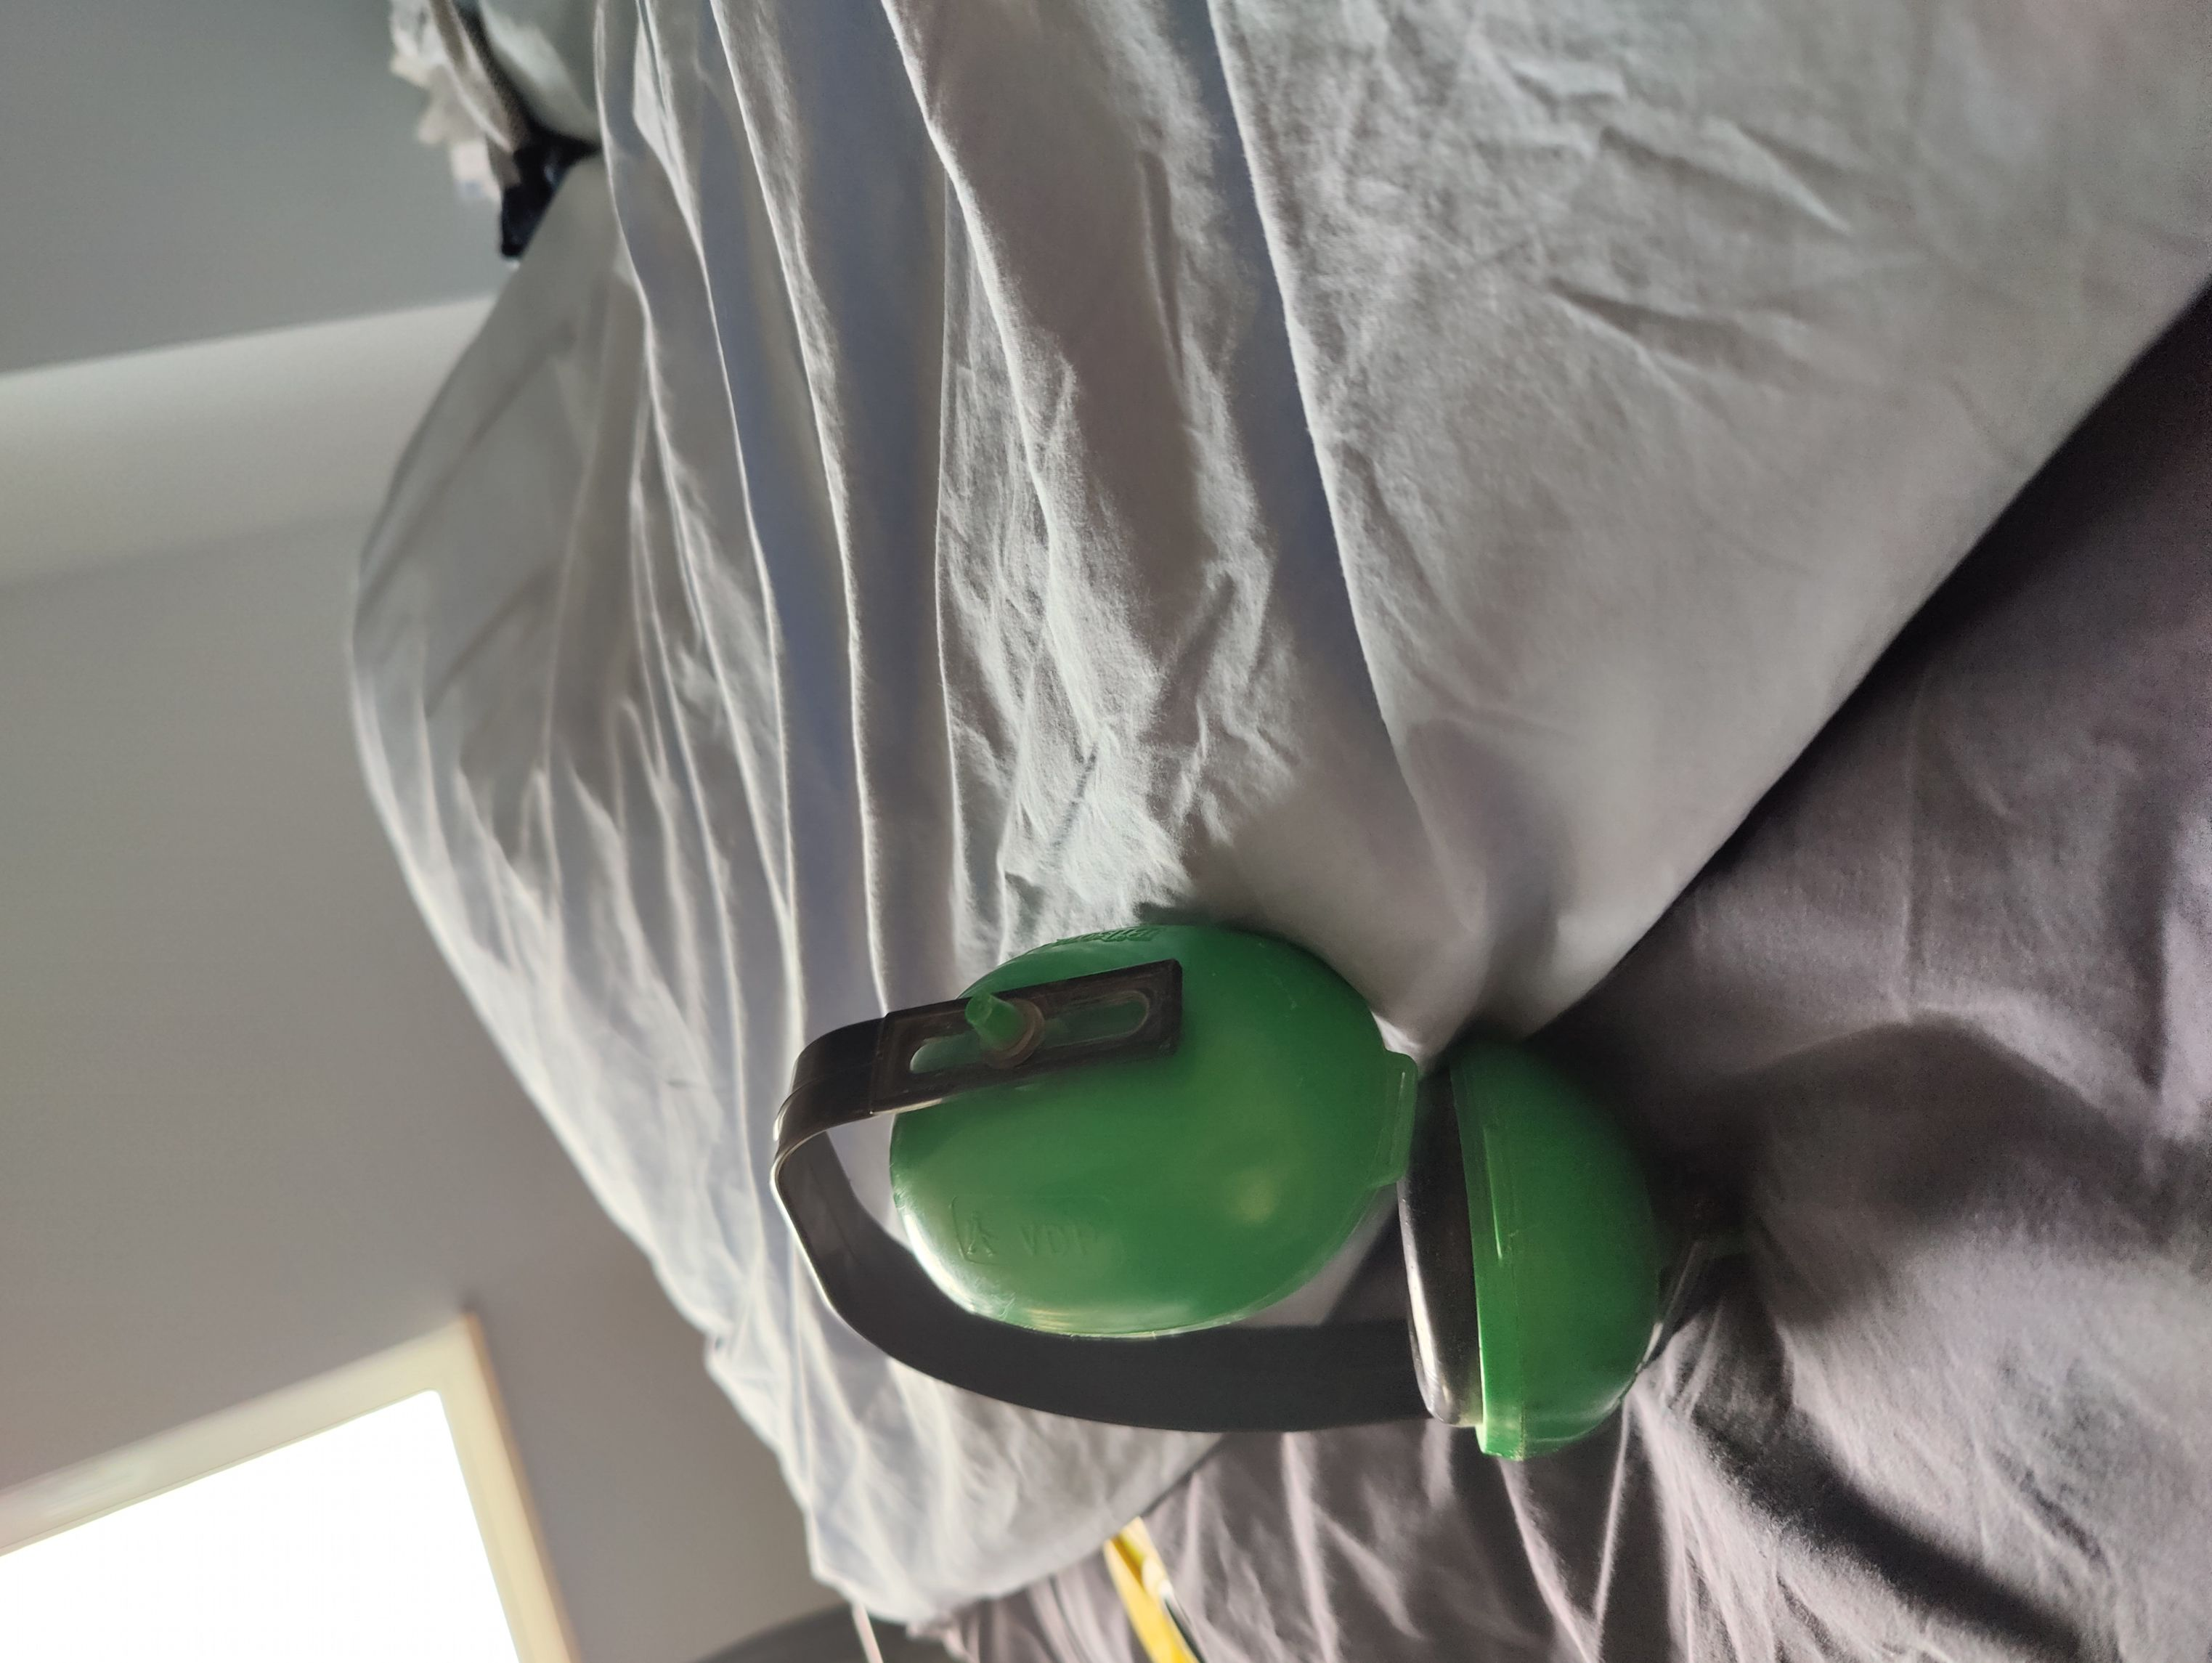headphones: (781, 914, 1655, 1467)
